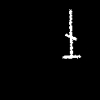double_crochet: (63, 10, 80, 57)
